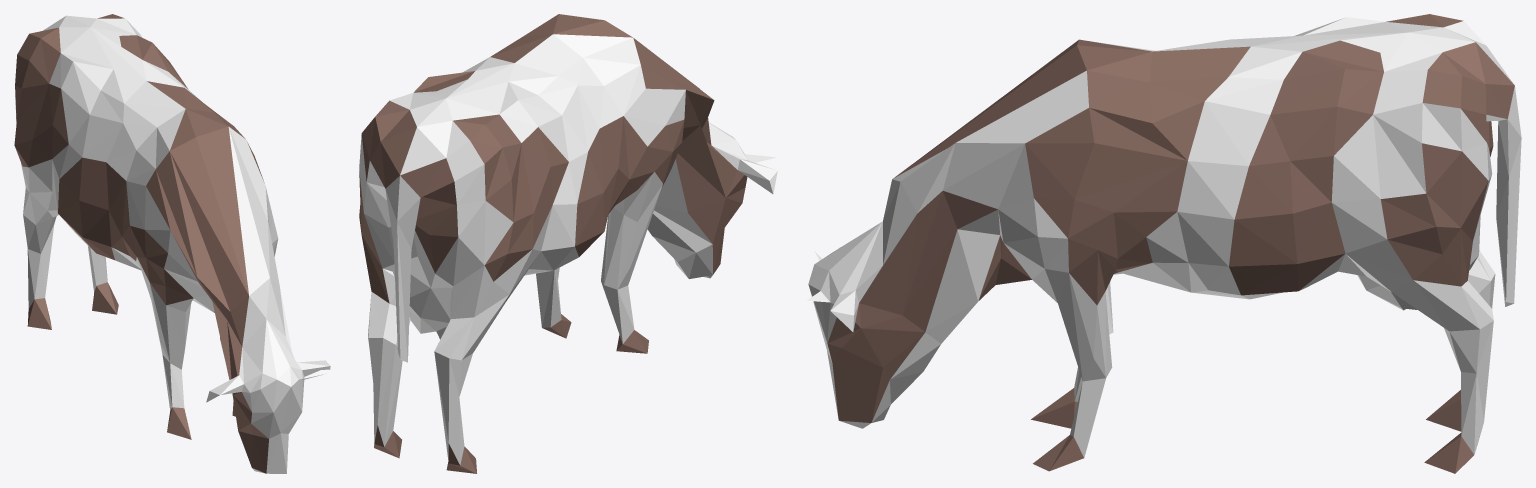
Rendered from animal_002.glb.
3 views of the same model, side by side, from view 1: azimuth 30°, elevation 25°; view 2: azimuth 150°, elevation 25°; view 3: azimuth 270°, elevation 25° (orthographic). The views are drawn at different scales.
Visible parts, largest first — view 1: animal_002; view 2: animal_002; view 3: animal_002.
Part boxes in pixels (box(x1,y1,x2,y2)): animal_002: box(14, 14, 330, 473); animal_002: box(359, 14, 777, 473); animal_002: box(807, 14, 1521, 473).
Bounding box in the file's own units: 1.6 × 2.98 × 4.67.
1 material, 1 textured.
